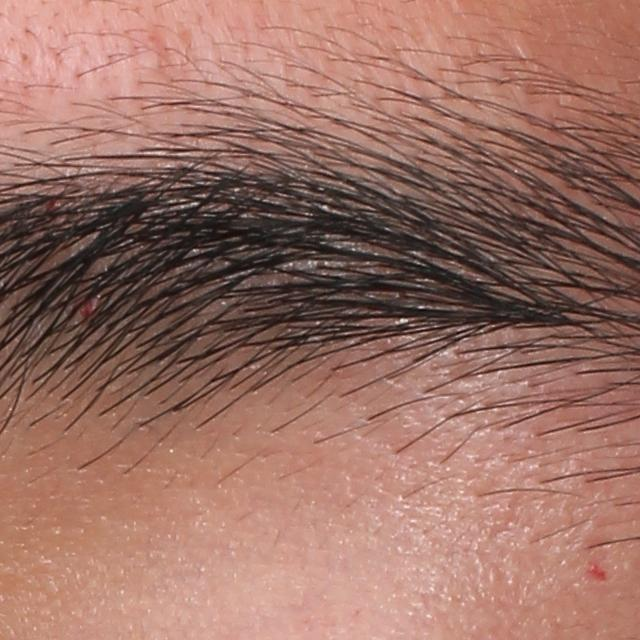other: (586, 561, 609, 581)
